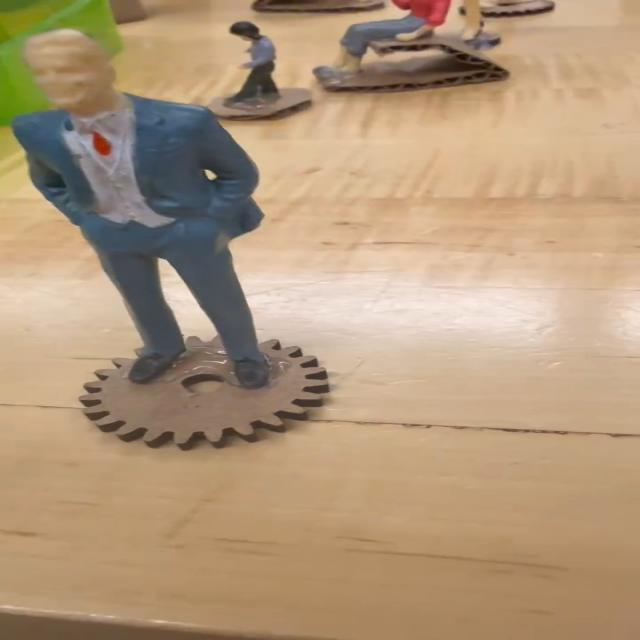Authorized: (11, 18, 287, 394)
